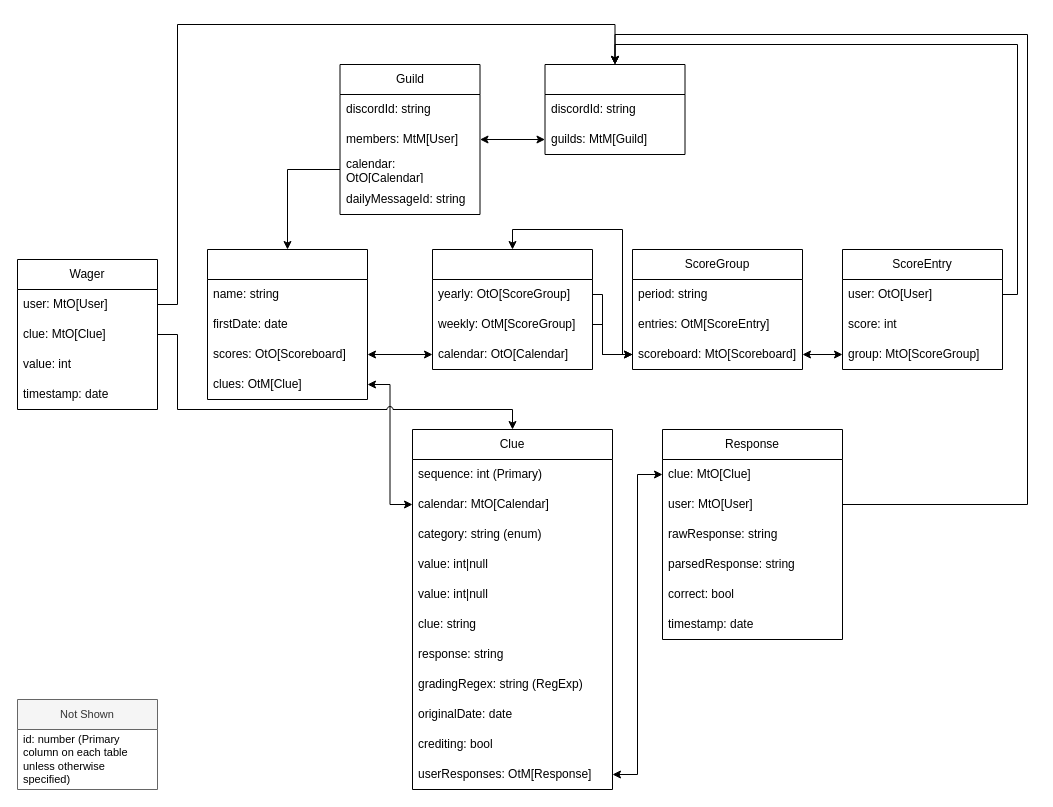
Image size: 1053x807. Some labels were removed from this diagram. Each missing label, with the box of its shape:
Calendar: (206, 248, 368, 400)
Scoreboard: (432, 248, 592, 370)
User: (544, 64, 685, 154)
